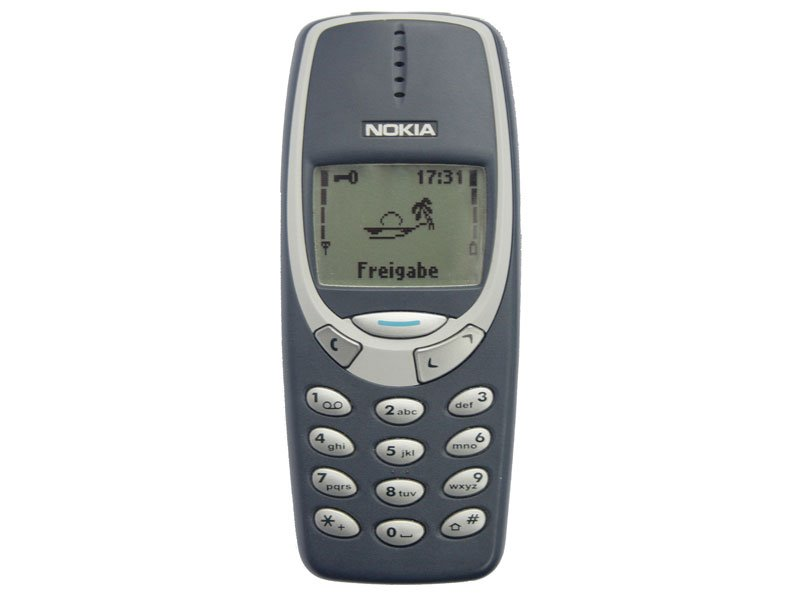Phone: (277, 10, 523, 585)
